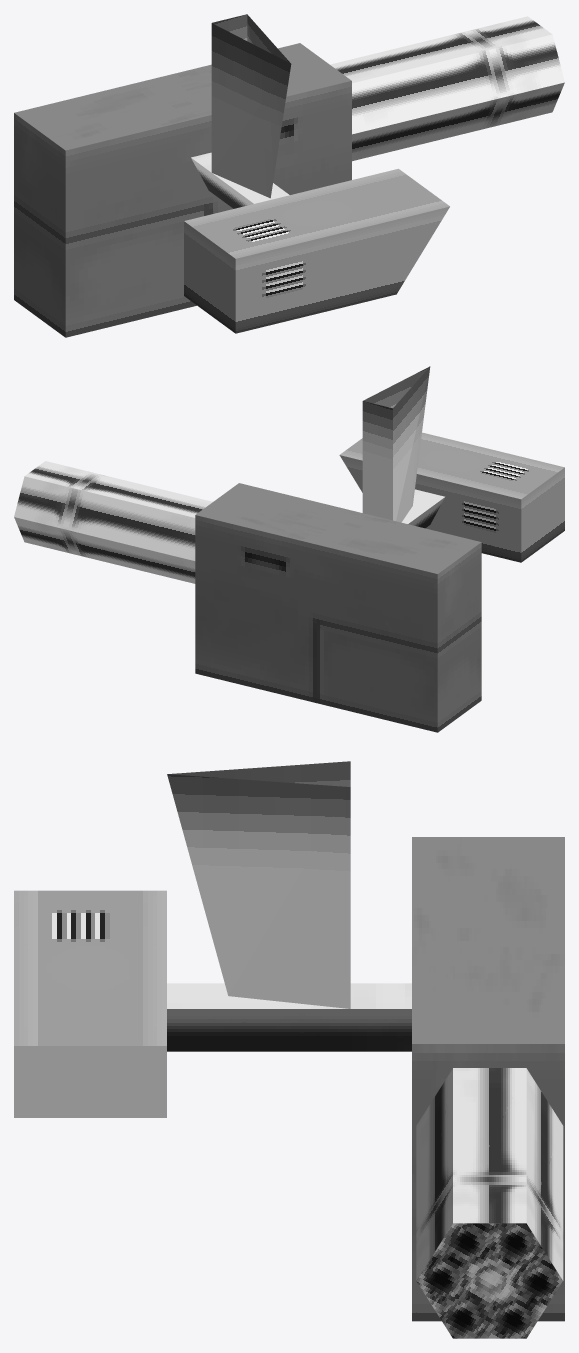
The model's file is sentry_gun.obj.
3 renders of one model, top to bottom at view 1: azimuth 30°, elevation 25°; view 2: azimuth 150°, elevation 25°; view 3: azimuth 270°, elevation 25°, orthographic. The views are drawn at different scales.
Parts seen in each view (by area): view 1: primary; view 2: primary; view 3: primary, secondary.
Part boxes in pixels (bbox=[...]): primary: bbox=[14, 14, 564, 337]; primary: bbox=[14, 366, 564, 732]; primary: bbox=[14, 761, 564, 1338]; secondary: bbox=[14, 1046, 166, 1117].
Size of the model in its own units: 1400 by 800 by 900.
Materials: 20 (20 with a texture image).
